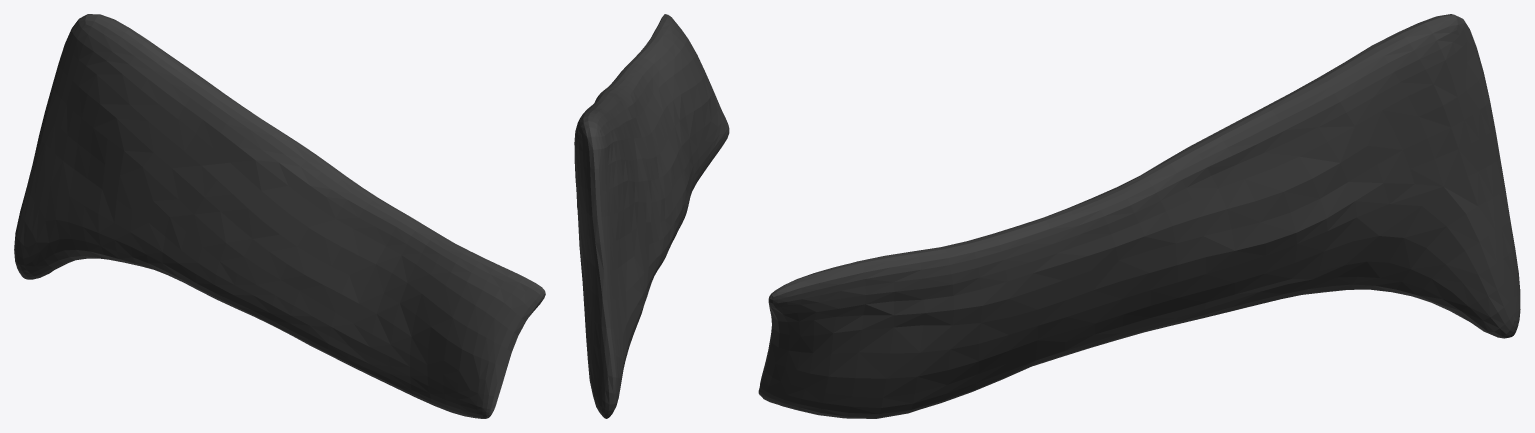
Rendered from m_vocalis_LO_L.glb.
3 views of the same model, side by side, from view 1: azimuth 30°, elevation 25°; view 2: azimuth 150°, elevation 25°; view 3: azimuth 270°, elevation 25° (orthographic). The views are drawn at different scales.
Parts seen in each view (by area): view 1: m_vocalis_LO_L; view 2: m_vocalis_LO_L; view 3: m_vocalis_LO_L.
Boxes of the visible parts, x1,y1,x2,y2 form: m_vocalis_LO_L: (14, 14, 545, 418); m_vocalis_LO_L: (574, 14, 729, 418); m_vocalis_LO_L: (758, 14, 1520, 418).
Bounding box in the file's own units: 0.0908 × 0.0987 × 0.1958.
Materials: 1 (1 with a texture image).
